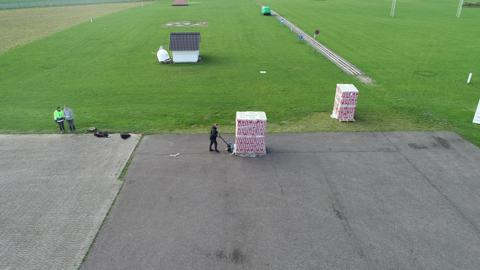RockwoolPallet: (332, 82, 358, 120)
